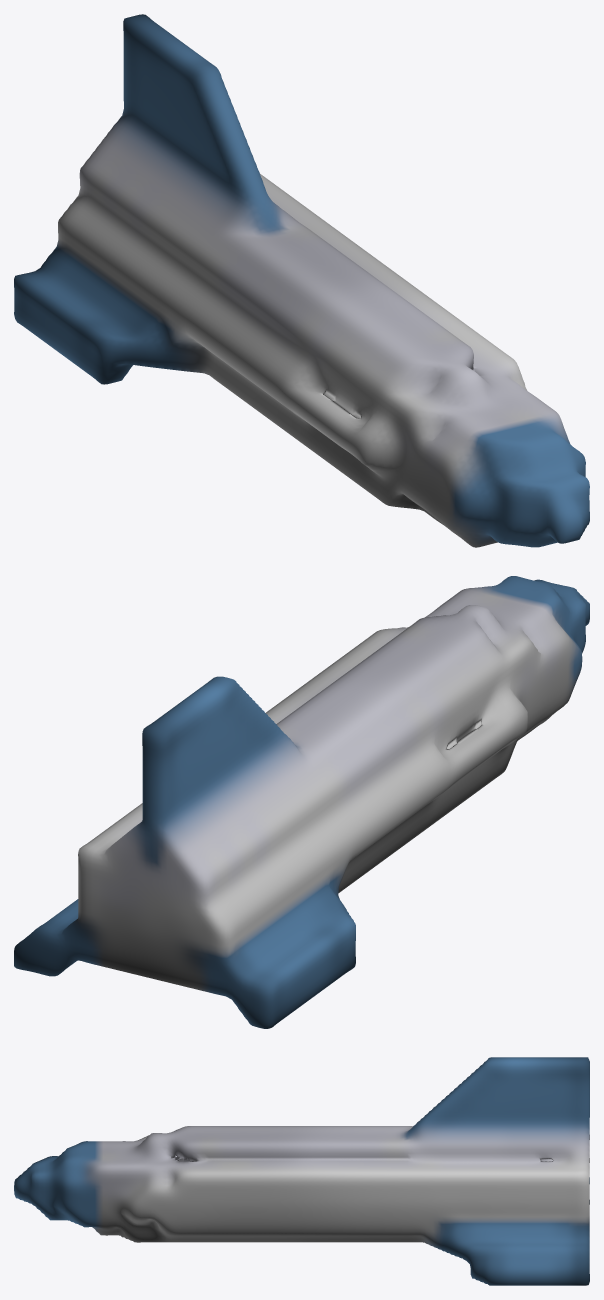
The model's file is dreadnought_missile.glb.
3 renders of one model, top to bottom at view 1: azimuth 30°, elevation 25°; view 2: azimuth 150°, elevation 25°; view 3: azimuth 270°, elevation 25°, orthographic. The views are drawn at different scales.
Visible parts, largest first — view 1: dreadnought_missile; view 2: dreadnought_missile; view 3: dreadnought_missile.
Part boxes in pixels (<box>): dreadnought_missile: <box>14,14,589,547</box>; dreadnought_missile: <box>14,576,589,1028</box>; dreadnought_missile: <box>14,1057,589,1285</box>.
Bounding box in the file's own units: 0.9555 × 0.9639 × 2.76.
